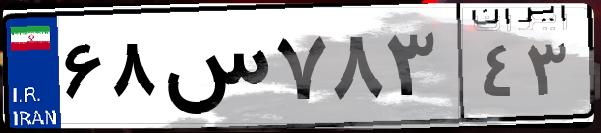3: (385, 28, 445, 110), (525, 38, 570, 115)
4: (475, 38, 525, 113)
6: (57, 26, 110, 100)
7: (270, 28, 330, 110)
8: (330, 28, 385, 110), (110, 28, 158, 98)
س: (158, 20, 270, 120)
